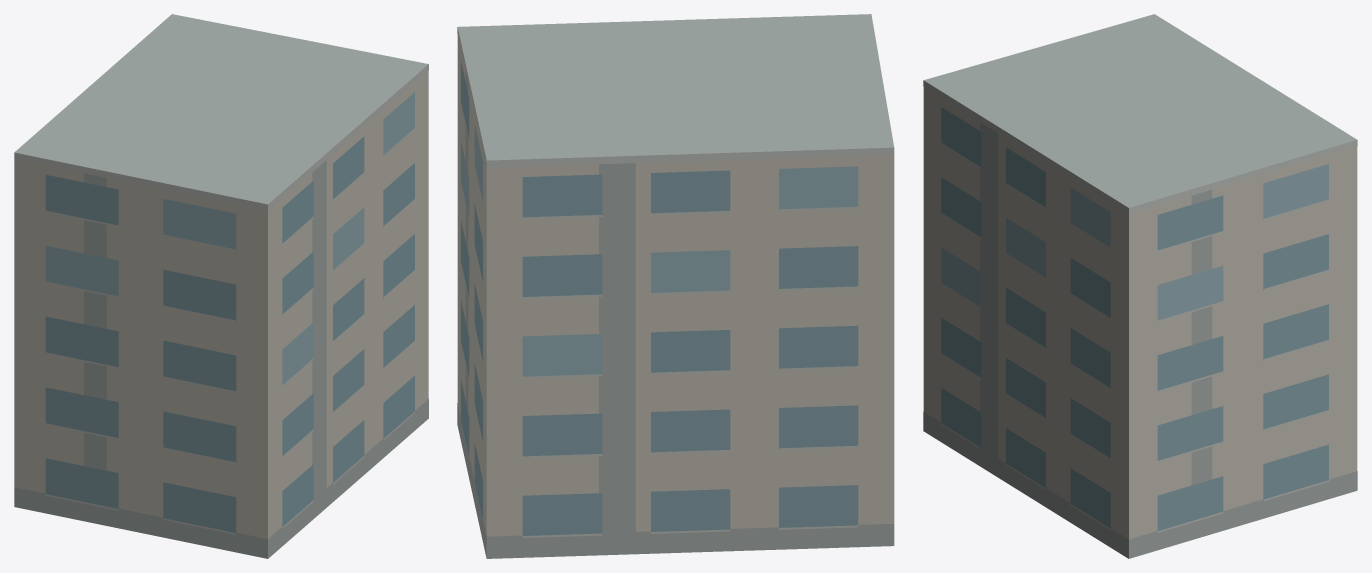
The model's file is survey-upis-32854365.glb.
3 renders of one model, left to right at view 1: azimuth 30°, elevation 25°; view 2: azimuth 150°, elevation 25°; view 3: azimuth 270°, elevation 25°, orthographic. The views are drawn at different scales.
Visible parts, largest first — view 1: survey-upis-32854365.tmp; view 2: survey-upis-32854365.tmp; view 3: survey-upis-32854365.tmp.
Boxes of the visible parts, <box> form: survey-upis-32854365.tmp: <box>14,14,428,558</box>; survey-upis-32854365.tmp: <box>457,14,894,558</box>; survey-upis-32854365.tmp: <box>923,14,1357,558</box>.
Size of the model in its own units: 15.72 by 13.25 by 14.86.
